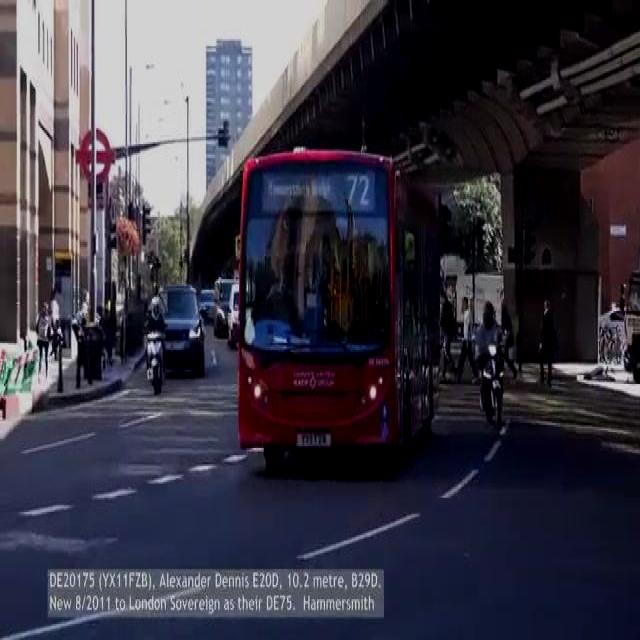bus: (224, 156, 446, 458)
